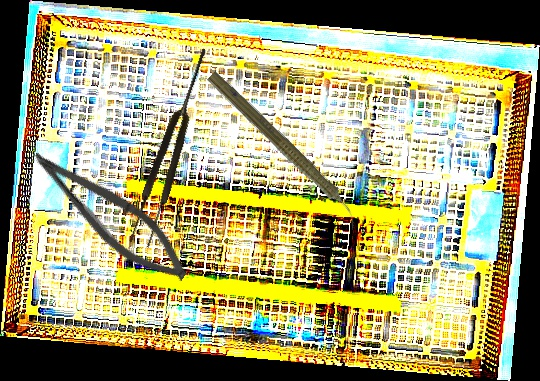Handpiece: (200, 67, 369, 232)
Micro Scissor: (16, 140, 202, 294)
Tissue Forceps: (126, 45, 218, 249)
